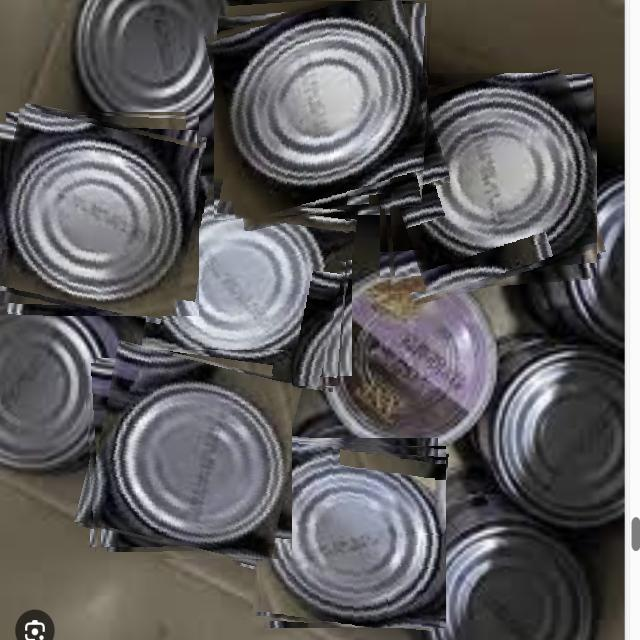recyclable: (375, 73, 597, 294), (214, 1, 433, 221), (83, 350, 292, 560), (146, 178, 354, 386), (0, 109, 199, 316), (256, 438, 446, 628)
